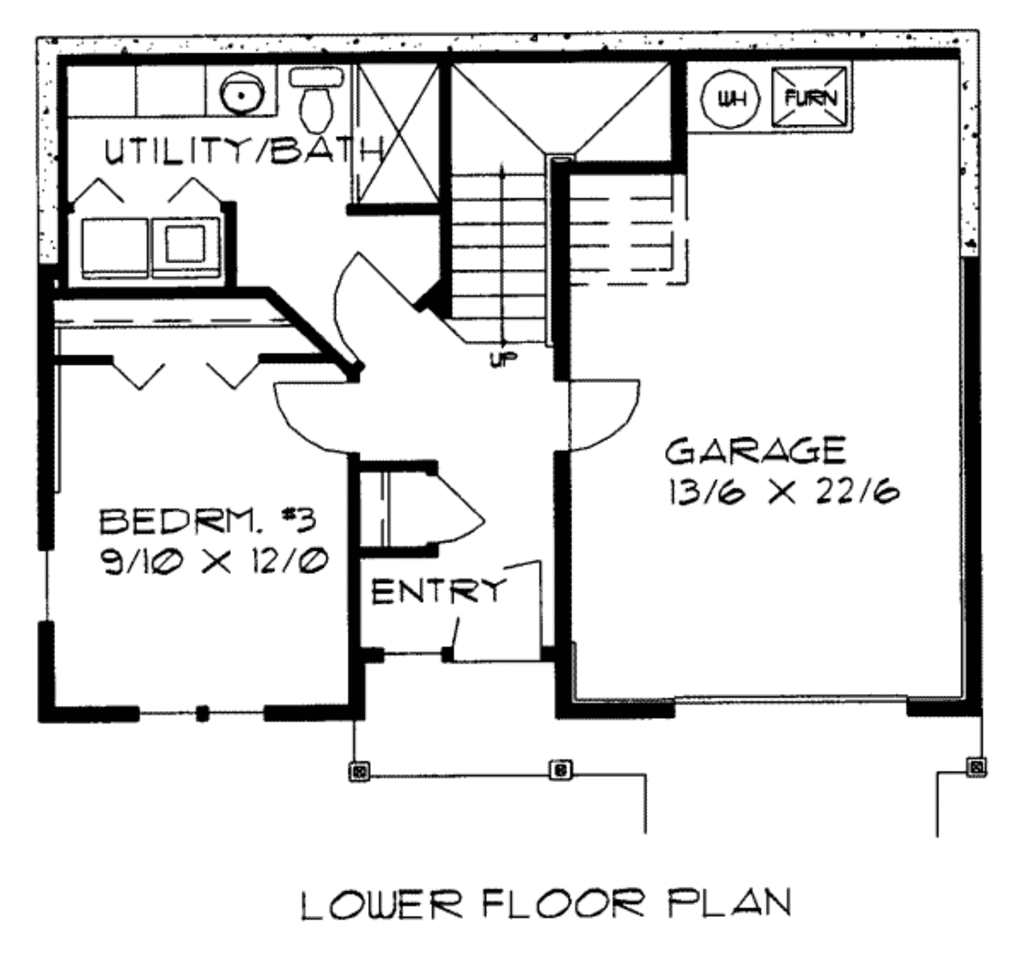door: (436, 562, 567, 669), (319, 256, 425, 365), (269, 366, 369, 457), (376, 474, 483, 550), (549, 377, 646, 448)
large_sink: (292, 60, 345, 141)
small_sink: (203, 59, 281, 121)
stairs: (437, 53, 706, 353)
window: (143, 703, 257, 726)
